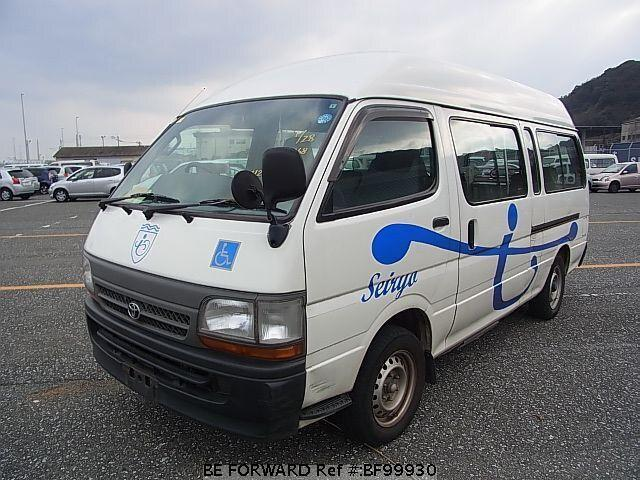van: (82, 70, 591, 432)
